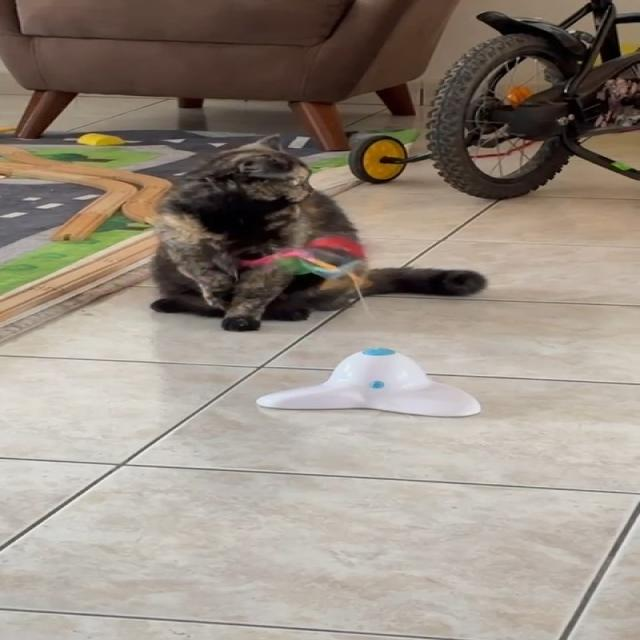authorized: (148, 133, 487, 331)
